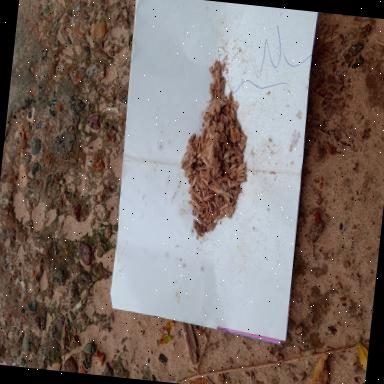pbw: (235, 162, 246, 174), (208, 84, 216, 100), (210, 70, 218, 86), (214, 212, 226, 222), (200, 182, 210, 194), (218, 174, 229, 184), (194, 184, 204, 195), (236, 168, 246, 178), (198, 218, 208, 228), (194, 192, 204, 202), (230, 101, 239, 112), (202, 194, 214, 202), (196, 164, 208, 172), (232, 144, 240, 156), (188, 132, 196, 144), (229, 162, 238, 172), (220, 77, 226, 92), (235, 186, 245, 195), (228, 170, 237, 180), (224, 140, 232, 151), (206, 225, 214, 236), (210, 200, 218, 211), (195, 151, 206, 159), (222, 150, 230, 161), (235, 176, 247, 183), (216, 77, 222, 91), (225, 122, 231, 136), (216, 60, 223, 72), (194, 136, 201, 148), (192, 219, 201, 228), (200, 178, 210, 186), (202, 158, 210, 168), (210, 184, 218, 194), (214, 88, 222, 98), (206, 222, 216, 230), (220, 94, 228, 104), (195, 226, 202, 237), (228, 206, 234, 218), (226, 178, 232, 190), (200, 128, 206, 140), (220, 202, 228, 211), (191, 174, 197, 186), (201, 140, 206, 154), (197, 139, 202, 153), (228, 92, 234, 103), (202, 202, 210, 210), (229, 168, 237, 176), (212, 211, 218, 221), (217, 196, 222, 208), (240, 142, 246, 152), (200, 213, 208, 220), (204, 218, 212, 225), (213, 88, 218, 99), (188, 184, 193, 195), (196, 174, 201, 184), (221, 142, 225, 154), (192, 208, 198, 216), (215, 70, 219, 80), (195, 212, 199, 218)
